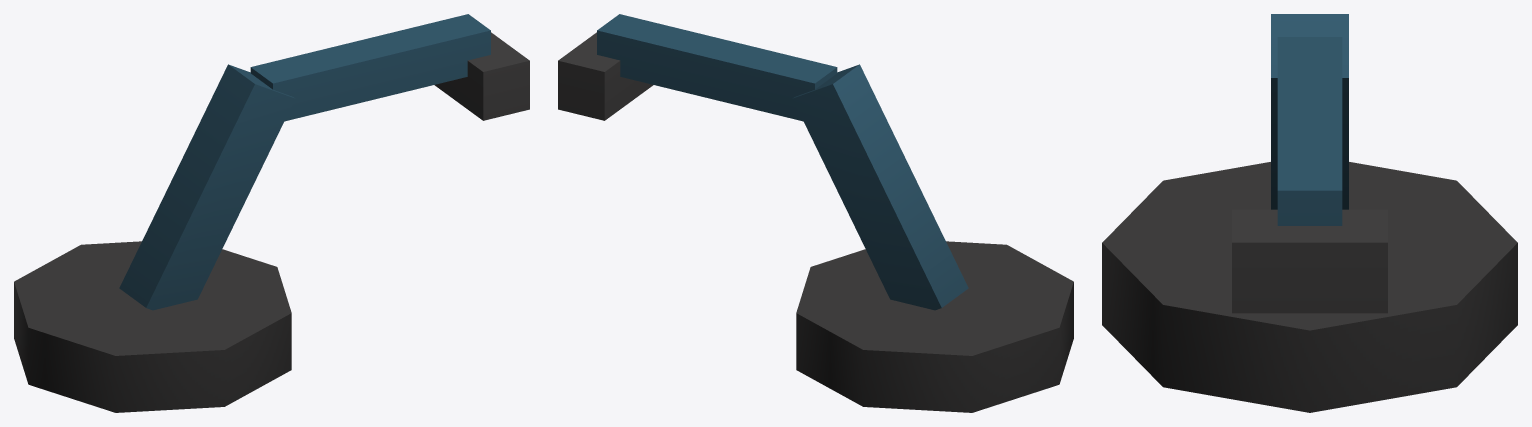
Rendered from fast-inserter.glb.
The picture shows the model from 3 angles, left to right: view 1: azimuth 30°, elevation 25°; view 2: azimuth 150°, elevation 25°; view 3: azimuth 270°, elevation 25°; orthographic projection. The views are drawn at different scales.
Visible parts, largest first — view 1: fast-inserter; view 2: fast-inserter; view 3: fast-inserter.
Part boxes in pixels (x1=…): fast-inserter: x1=14, y1=14, x2=529, y2=412; fast-inserter: x1=558, y1=14, x2=1073, y2=412; fast-inserter: x1=1102, y1=14, x2=1517, y2=412.
Bounding box in the file's own units: 0.305 × 0.1587 × 0.16.
